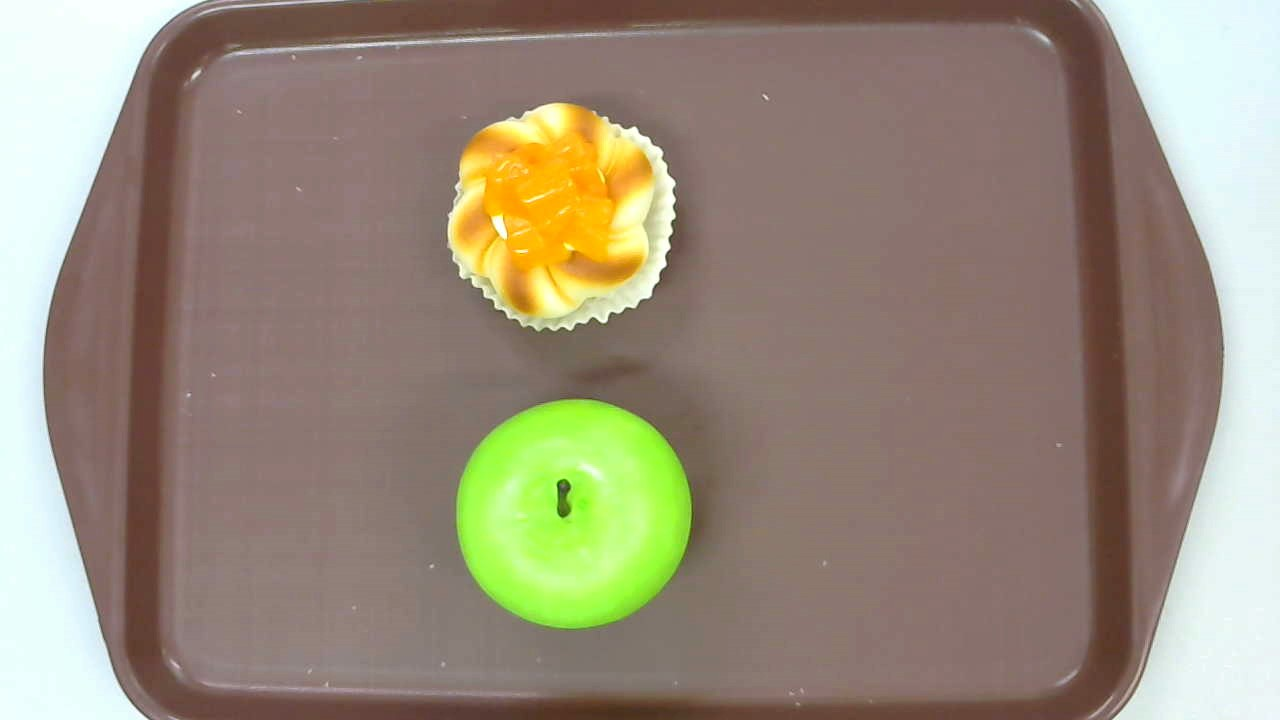green apple: (454, 399, 691, 630)
mango tart: (445, 103, 677, 333)
